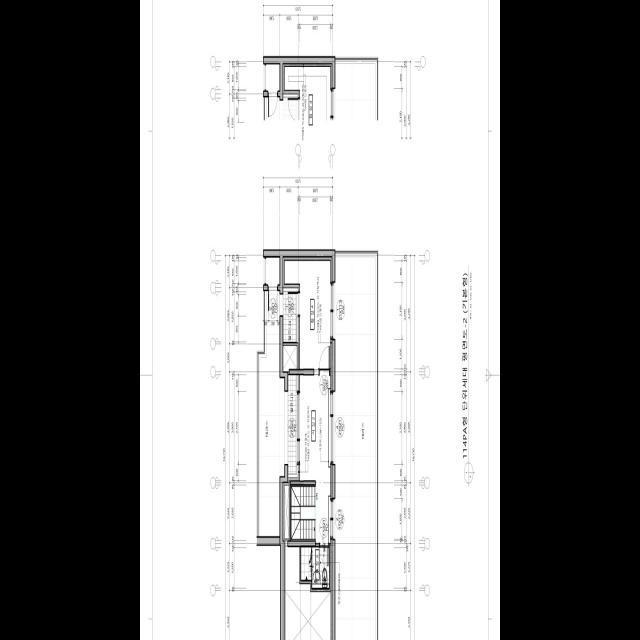background: (140, 0, 500, 640)
space_balconi: (288, 375, 296, 473), (283, 291, 296, 341)
space_bedroom: (283, 257, 330, 369)
space_living_room: (300, 374, 330, 543)
space_other: (335, 256, 375, 640), (260, 290, 285, 536), (284, 546, 332, 640), (291, 485, 315, 540), (266, 257, 280, 286), (283, 345, 297, 371), (283, 482, 289, 540)
space_toilet: (301, 547, 329, 587)
